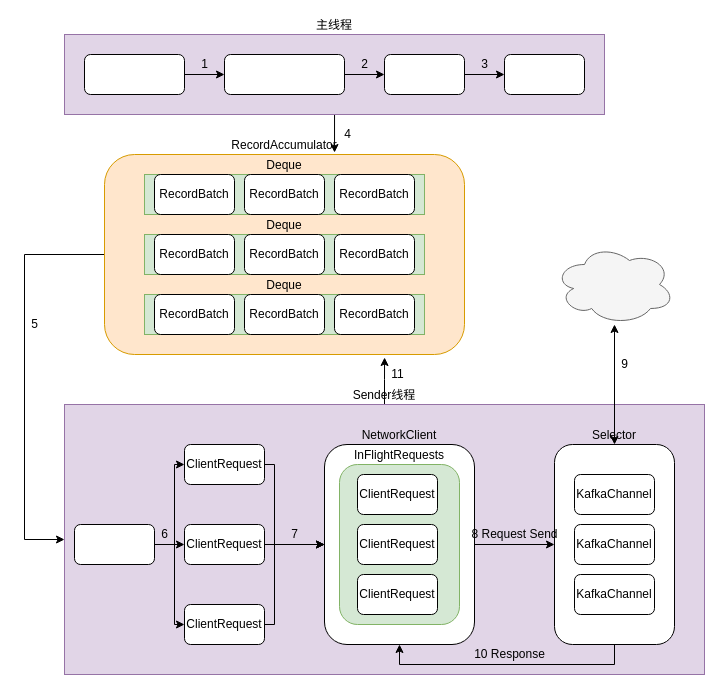
Some shapes in this 722 by 692 pixel diagram are drawn without their labels. The centre of each missing label's shape, as x and y in pixels:
KafkaProducer: the point at 134,74
Kafka集群: the point at 614,284
Partitioner: the point at 544,74
ProducerInterceptors: the point at 284,74
Sender: the point at 114,544
Serializer: the point at 424,74
